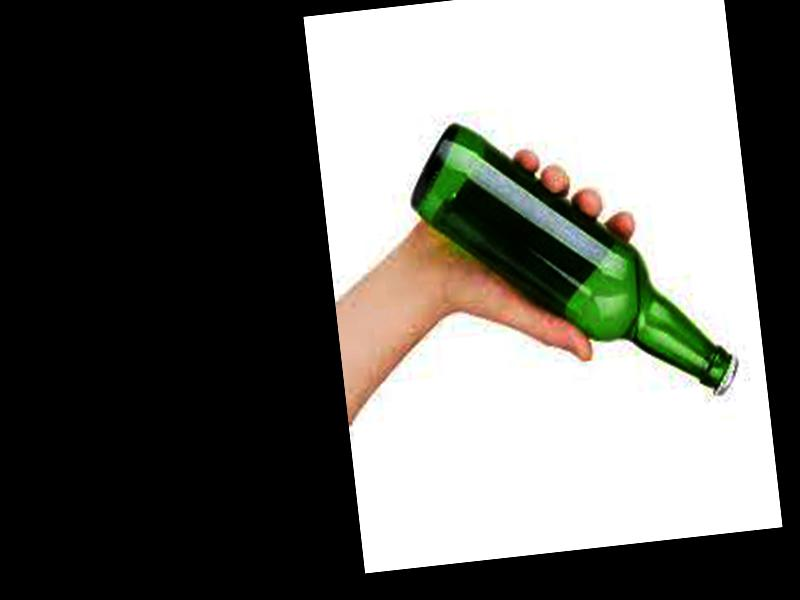Beer: (398, 99, 737, 427)
